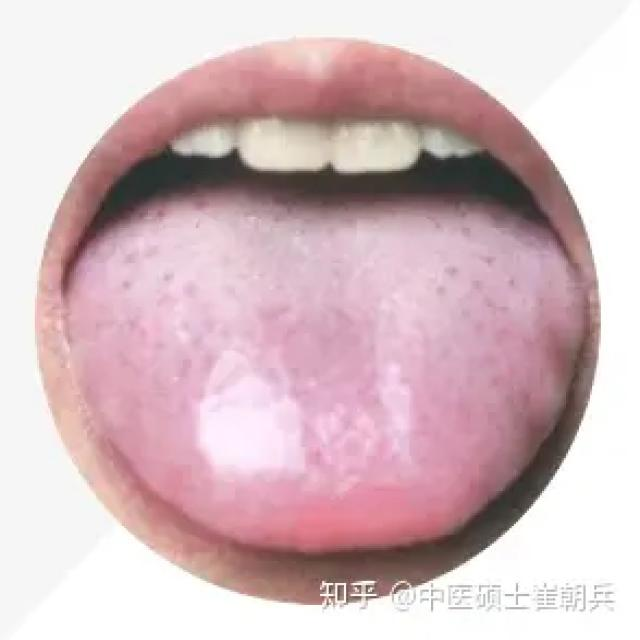tongue: (65, 198, 590, 560)
